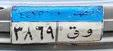3: (13, 25, 23, 42)
6: (34, 24, 44, 42)
8: (22, 26, 33, 42)
9: (46, 25, 55, 41)
qaaf: (65, 25, 79, 40)
waw: (81, 26, 94, 41)
